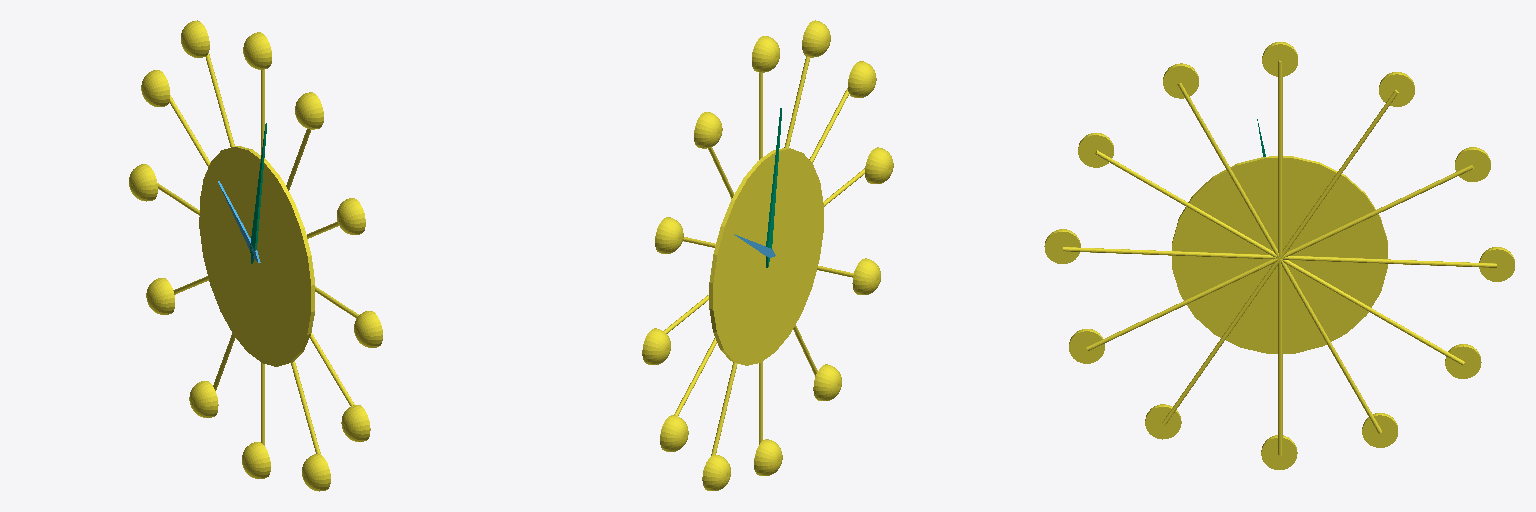
URDF robot description (partnet_44316e91d4926a73fe9c9da4b1c78d03):
<?xml version="1.0" ?>
<robot name="partnet_44316e91d4926a73fe9c9da4b1c78d03">
	<link name="base"/>
	<link name="link_0">
		<visual name="hand-3">
			<origin xyz="0.004495029856661286 -0.03555555338244889 0"/>
			<geometry>
				<mesh filename="textured_objs/original-3.obj"/>
			</geometry>
		</visual>
		<collision>
			<origin xyz="0.004495029856661286 -0.03555555338244889 0"/>
			<geometry>
				<mesh filename="textured_objs/original-3.obj"/>
			</geometry>
		</collision>
	</link>
	<joint name="joint_0" type="continuous">
		<origin xyz="-0.004495029856661286 0.03555555338244889 0"/>
		<axis xyz="0 0 1"/>
		<child link="link_0"/>
		<parent link="link_2"/>
	</joint>
	<link name="link_1">
		<visual name="hand-4">
			<origin xyz="0.004495029856661286 -0.03555555338244889 0"/>
			<geometry>
				<mesh filename="textured_objs/original-2.obj"/>
			</geometry>
		</visual>
		<collision>
			<origin xyz="0.004495029856661286 -0.03555555338244889 0"/>
			<geometry>
				<mesh filename="textured_objs/original-2.obj"/>
			</geometry>
		</collision>
	</link>
	<joint name="joint_1" type="continuous">
		<origin xyz="-0.004495029856661286 0.03555555338244889 0"/>
		<axis xyz="0 0 1"/>
		<child link="link_1"/>
		<parent link="link_2"/>
	</joint>
	<link name="link_2">
		<visual name="surface-5">
			<origin xyz="0 0 0"/>
			<geometry>
				<mesh filename="textured_objs/original-1.obj"/>
			</geometry>
		</visual>
		<visual name="surface-5">
			<origin xyz="0 0 0"/>
			<geometry>
				<mesh filename="textured_objs/original-25.obj"/>
			</geometry>
		</visual>
		<visual name="surface-5">
			<origin xyz="0 0 0"/>
			<geometry>
				<mesh filename="textured_objs/original-26.obj"/>
			</geometry>
		</visual>
		<visual name="surface-5">
			<origin xyz="0 0 0"/>
			<geometry>
				<mesh filename="textured_objs/original-5.obj"/>
			</geometry>
		</visual>
		<visual name="surface-5">
			<origin xyz="0 0 0"/>
			<geometry>
				<mesh filename="textured_objs/original-6.obj"/>
			</geometry>
		</visual>
		<visual name="surface-5">
			<origin xyz="0 0 0"/>
			<geometry>
				<mesh filename="textured_objs/original-7.obj"/>
			</geometry>
		</visual>
		<visual name="surface-5">
			<origin xyz="0 0 0"/>
			<geometry>
				<mesh filename="textured_objs/original-27.obj"/>
			</geometry>
		</visual>
		<visual name="surface-5">
			<origin xyz="0 0 0"/>
			<geometry>
				<mesh filename="textured_objs/original-8.obj"/>
			</geometry>
		</visual>
		<visual name="surface-5">
			<origin xyz="0 0 0"/>
			<geometry>
				<mesh filename="textured_objs/original-9.obj"/>
			</geometry>
		</visual>
		<visual name="surface-5">
			<origin xyz="0 0 0"/>
			<geometry>
				<mesh filename="textured_objs/original-11.obj"/>
			</geometry>
		</visual>
		<visual name="surface-5">
			<origin xyz="0 0 0"/>
			<geometry>
				<mesh filename="textured_objs/original-14.obj"/>
			</geometry>
		</visual>
		<visual name="surface-5">
			<origin xyz="0 0 0"/>
			<geometry>
				<mesh filename="textured_objs/original-23.obj"/>
			</geometry>
		</visual>
		<visual name="surface-5">
			<origin xyz="0 0 0"/>
			<geometry>
				<mesh filename="textured_objs/original-24.obj"/>
			</geometry>
		</visual>
		<visual name="surface-5">
			<origin xyz="0 0 0"/>
			<geometry>
				<mesh filename="textured_objs/original-16.obj"/>
			</geometry>
		</visual>
		<visual name="surface-5">
			<origin xyz="0 0 0"/>
			<geometry>
				<mesh filename="textured_objs/original-18.obj"/>
			</geometry>
		</visual>
		<visual name="surface-5">
			<origin xyz="0 0 0"/>
			<geometry>
				<mesh filename="textured_objs/original-12.obj"/>
			</geometry>
		</visual>
		<visual name="surface-5">
			<origin xyz="0 0 0"/>
			<geometry>
				<mesh filename="textured_objs/original-20.obj"/>
			</geometry>
		</visual>
		<visual name="surface-5">
			<origin xyz="0 0 0"/>
			<geometry>
				<mesh filename="textured_objs/original-22.obj"/>
			</geometry>
		</visual>
		<visual name="surface-5">
			<origin xyz="0 0 0"/>
			<geometry>
				<mesh filename="textured_objs/original-10.obj"/>
			</geometry>
		</visual>
		<visual name="surface-5">
			<origin xyz="0 0 0"/>
			<geometry>
				<mesh filename="textured_objs/original-15.obj"/>
			</geometry>
		</visual>
		<visual name="surface-5">
			<origin xyz="0 0 0"/>
			<geometry>
				<mesh filename="textured_objs/original-17.obj"/>
			</geometry>
		</visual>
		<visual name="surface-5">
			<origin xyz="0 0 0"/>
			<geometry>
				<mesh filename="textured_objs/original-19.obj"/>
			</geometry>
		</visual>
		<visual name="surface-5">
			<origin xyz="0 0 0"/>
			<geometry>
				<mesh filename="textured_objs/original-21.obj"/>
			</geometry>
		</visual>
		<visual name="surface-5">
			<origin xyz="0 0 0"/>
			<geometry>
				<mesh filename="textured_objs/original-13.obj"/>
			</geometry>
		</visual>
		<visual name="surface-5">
			<origin xyz="0 0 0"/>
			<geometry>
				<mesh filename="textured_objs/original-4.obj"/>
			</geometry>
		</visual>
		<collision>
			<origin xyz="0 0 0"/>
			<geometry>
				<mesh filename="textured_objs/original-1.obj"/>
			</geometry>
		</collision>
		<collision>
			<origin xyz="0 0 0"/>
			<geometry>
				<mesh filename="textured_objs/original-25.obj"/>
			</geometry>
		</collision>
		<collision>
			<origin xyz="0 0 0"/>
			<geometry>
				<mesh filename="textured_objs/original-26.obj"/>
			</geometry>
		</collision>
		<collision>
			<origin xyz="0 0 0"/>
			<geometry>
				<mesh filename="textured_objs/original-5.obj"/>
			</geometry>
		</collision>
		<collision>
			<origin xyz="0 0 0"/>
			<geometry>
				<mesh filename="textured_objs/original-6.obj"/>
			</geometry>
		</collision>
		<collision>
			<origin xyz="0 0 0"/>
			<geometry>
				<mesh filename="textured_objs/original-7.obj"/>
			</geometry>
		</collision>
		<collision>
			<origin xyz="0 0 0"/>
			<geometry>
				<mesh filename="textured_objs/original-27.obj"/>
			</geometry>
		</collision>
		<collision>
			<origin xyz="0 0 0"/>
			<geometry>
				<mesh filename="textured_objs/original-8.obj"/>
			</geometry>
		</collision>
		<collision>
			<origin xyz="0 0 0"/>
			<geometry>
				<mesh filename="textured_objs/original-9.obj"/>
			</geometry>
		</collision>
		<collision>
			<origin xyz="0 0 0"/>
			<geometry>
				<mesh filename="textured_objs/original-11.obj"/>
			</geometry>
		</collision>
		<collision>
			<origin xyz="0 0 0"/>
			<geometry>
				<mesh filename="textured_objs/original-14.obj"/>
			</geometry>
		</collision>
		<collision>
			<origin xyz="0 0 0"/>
			<geometry>
				<mesh filename="textured_objs/original-23.obj"/>
			</geometry>
		</collision>
		<collision>
			<origin xyz="0 0 0"/>
			<geometry>
				<mesh filename="textured_objs/original-24.obj"/>
			</geometry>
		</collision>
		<collision>
			<origin xyz="0 0 0"/>
			<geometry>
				<mesh filename="textured_objs/original-16.obj"/>
			</geometry>
		</collision>
		<collision>
			<origin xyz="0 0 0"/>
			<geometry>
				<mesh filename="textured_objs/original-18.obj"/>
			</geometry>
		</collision>
		<collision>
			<origin xyz="0 0 0"/>
			<geometry>
				<mesh filename="textured_objs/original-12.obj"/>
			</geometry>
		</collision>
		<collision>
			<origin xyz="0 0 0"/>
			<geometry>
				<mesh filename="textured_objs/original-20.obj"/>
			</geometry>
		</collision>
		<collision>
			<origin xyz="0 0 0"/>
			<geometry>
				<mesh filename="textured_objs/original-22.obj"/>
			</geometry>
		</collision>
		<collision>
			<origin xyz="0 0 0"/>
			<geometry>
				<mesh filename="textured_objs/original-10.obj"/>
			</geometry>
		</collision>
		<collision>
			<origin xyz="0 0 0"/>
			<geometry>
				<mesh filename="textured_objs/original-15.obj"/>
			</geometry>
		</collision>
		<collision>
			<origin xyz="0 0 0"/>
			<geometry>
				<mesh filename="textured_objs/original-17.obj"/>
			</geometry>
		</collision>
		<collision>
			<origin xyz="0 0 0"/>
			<geometry>
				<mesh filename="textured_objs/original-19.obj"/>
			</geometry>
		</collision>
		<collision>
			<origin xyz="0 0 0"/>
			<geometry>
				<mesh filename="textured_objs/original-21.obj"/>
			</geometry>
		</collision>
		<collision>
			<origin xyz="0 0 0"/>
			<geometry>
				<mesh filename="textured_objs/original-13.obj"/>
			</geometry>
		</collision>
		<collision>
			<origin xyz="0 0 0"/>
			<geometry>
				<mesh filename="textured_objs/original-4.obj"/>
			</geometry>
		</collision>
	</link>
	<joint name="joint_2" type="fixed">
		<origin rpy="1.570796326794897 0 -1.570796326794897" xyz="0 0 0"/>
		<child link="link_2"/>
		<parent link="base"/>
	</joint>
</robot>

--- Facts derived from the render (not from the file) ---
Views: 3 orthographic renders of the robot side by side, from view 1: azimuth 30°, elevation 25°; view 2: azimuth 150°, elevation 25°; view 3: azimuth 270°, elevation 25°.
Robot: partnet_44316e91d4926a73fe9c9da4b1c78d03 — 4 links, 3 joints (2 continuous, 1 fixed); root link base; default pose: all joints at 0.
Links seen in each view (by area): view 1: link_2, link_1; view 2: link_2, link_1; view 3: link_2.
Link boxes in pixels (bbox=[...]): link_2: bbox=[129, 20, 382, 491]; link_1: bbox=[250, 123, 266, 263]; link_2: bbox=[642, 20, 893, 490]; link_1: bbox=[766, 108, 781, 267]; link_2: bbox=[1044, 42, 1514, 469].
Bounding box of the posed robot: 0.0961 × 1.99 × 1.99 m (x, y, z).
Meshes: 27 distinct files referenced, 27 mesh visuals loaded (27 OBJ).
